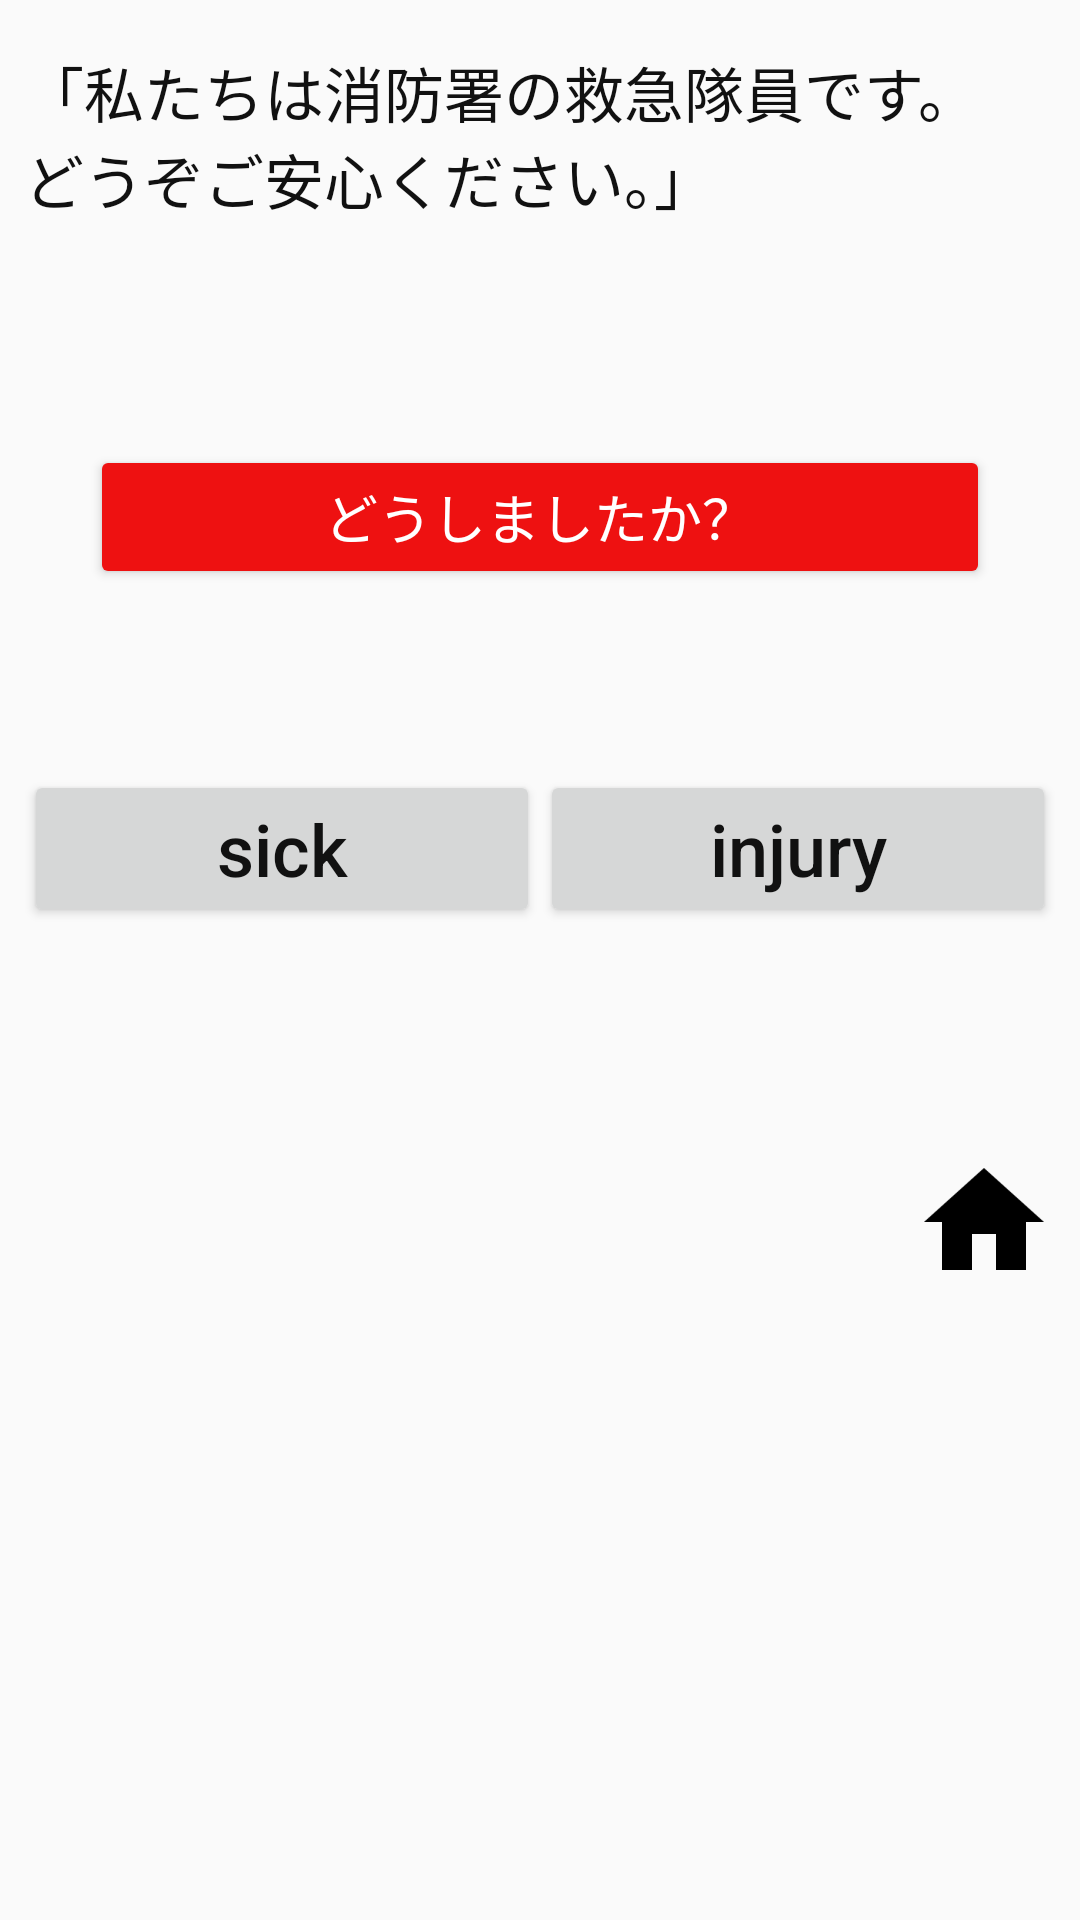

Icon bounding boxes for this 1080px×1920px phone screenshot, format (x1, y1, x2, y2):
home: (924, 1168, 1044, 1270)
